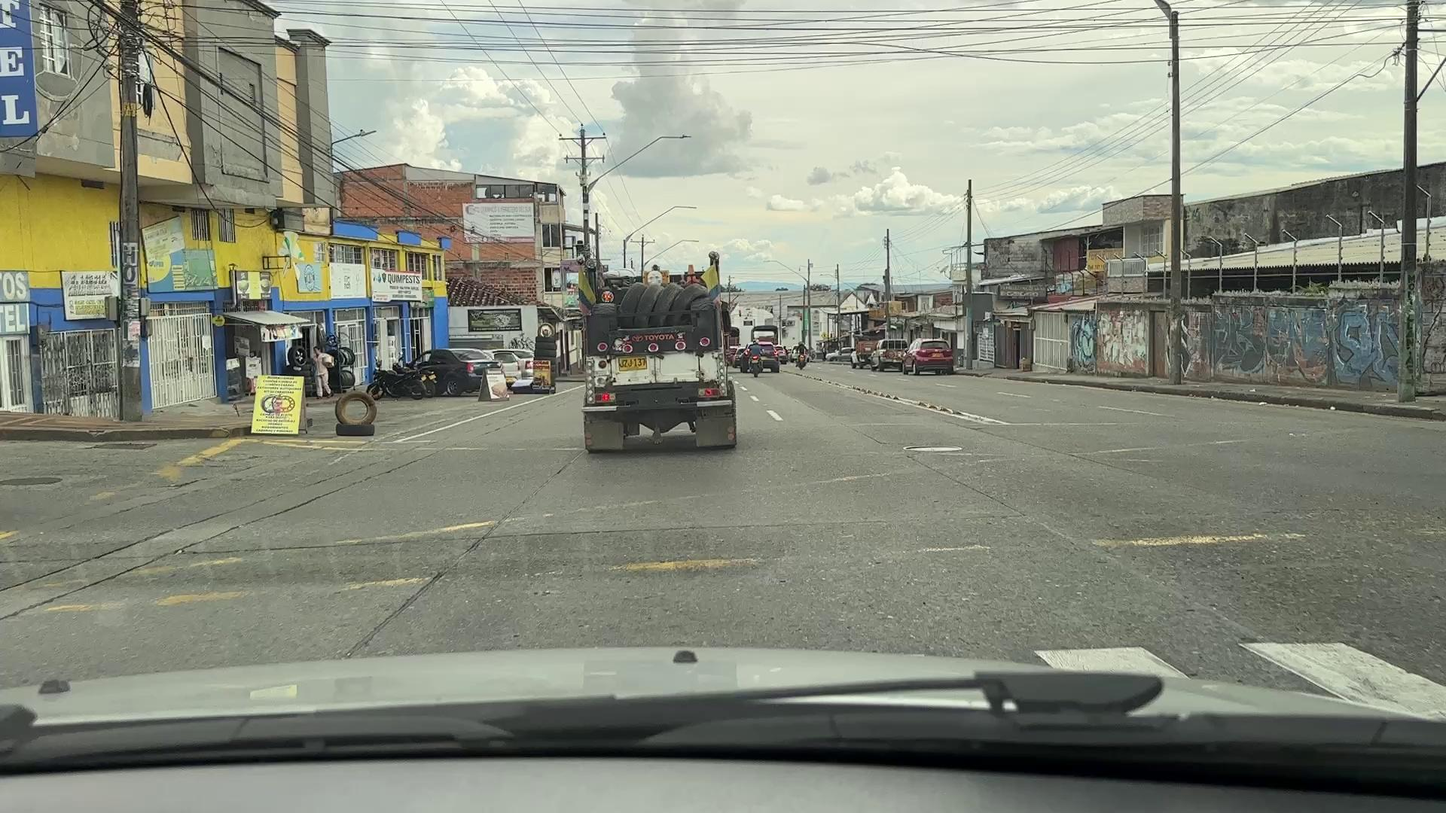grieta: (160, 480, 198, 489)
registro: (0, 477, 62, 485), (902, 446, 963, 451)
rejilla: (85, 443, 158, 450)
